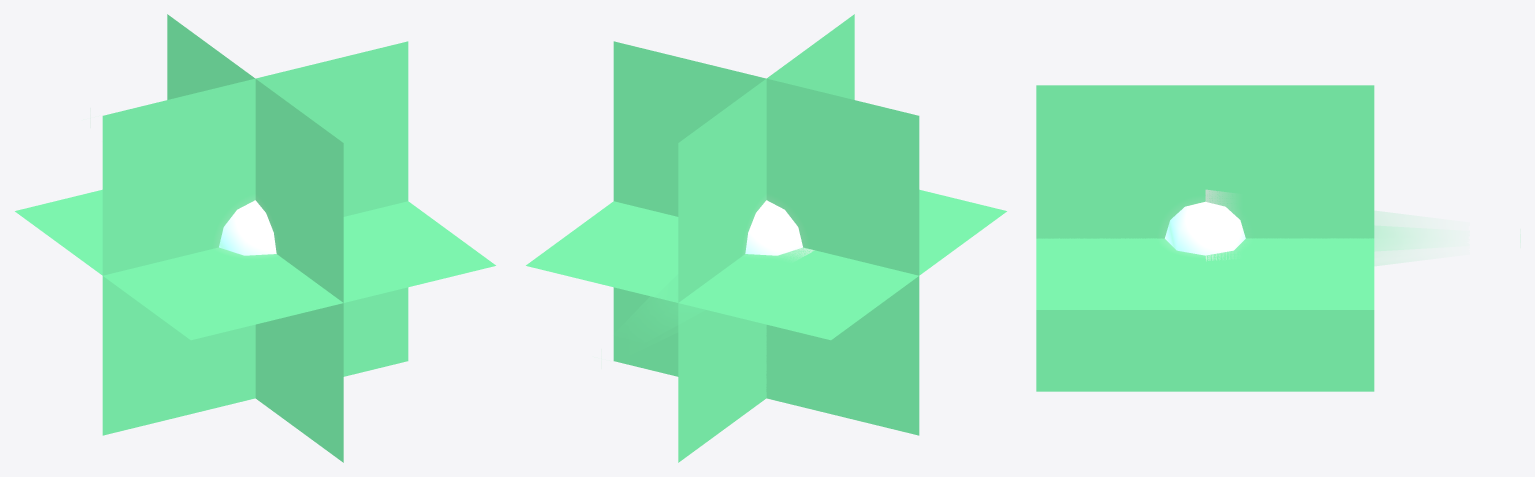
The model's file is fx_wisp.glb.
The picture shows the model from 3 angles, left to right: view 1: azimuth 30°, elevation 25°; view 2: azimuth 150°, elevation 25°; view 3: azimuth 270°, elevation 25°; orthographic projection. The views are drawn at different scales.
Visible parts, largest first — view 1: fx_wisp_glow, fx_wisp_core; view 2: fx_wisp_glow, fx_wisp_tail, fx_wisp_core; view 3: fx_wisp_glow, fx_wisp_tail, fx_wisp_core.
Boxes of the visible parts, bbox=[...] form: fx_wisp_glow: bbox=[15, 14, 495, 462]; fx_wisp_core: bbox=[219, 200, 276, 255]; fx_wisp_glow: bbox=[526, 14, 1006, 462]; fx_wisp_tail: bbox=[601, 247, 814, 358]; fx_wisp_core: bbox=[745, 200, 802, 255]; fx_wisp_glow: bbox=[1036, 85, 1374, 391]; fx_wisp_tail: bbox=[1205, 189, 1520, 265]; fx_wisp_core: bbox=[1165, 201, 1245, 255].
Bounding box in the file's own units: 0.75 × 0.75 × 1.07.
Materials: 3 (2 with a texture image).
